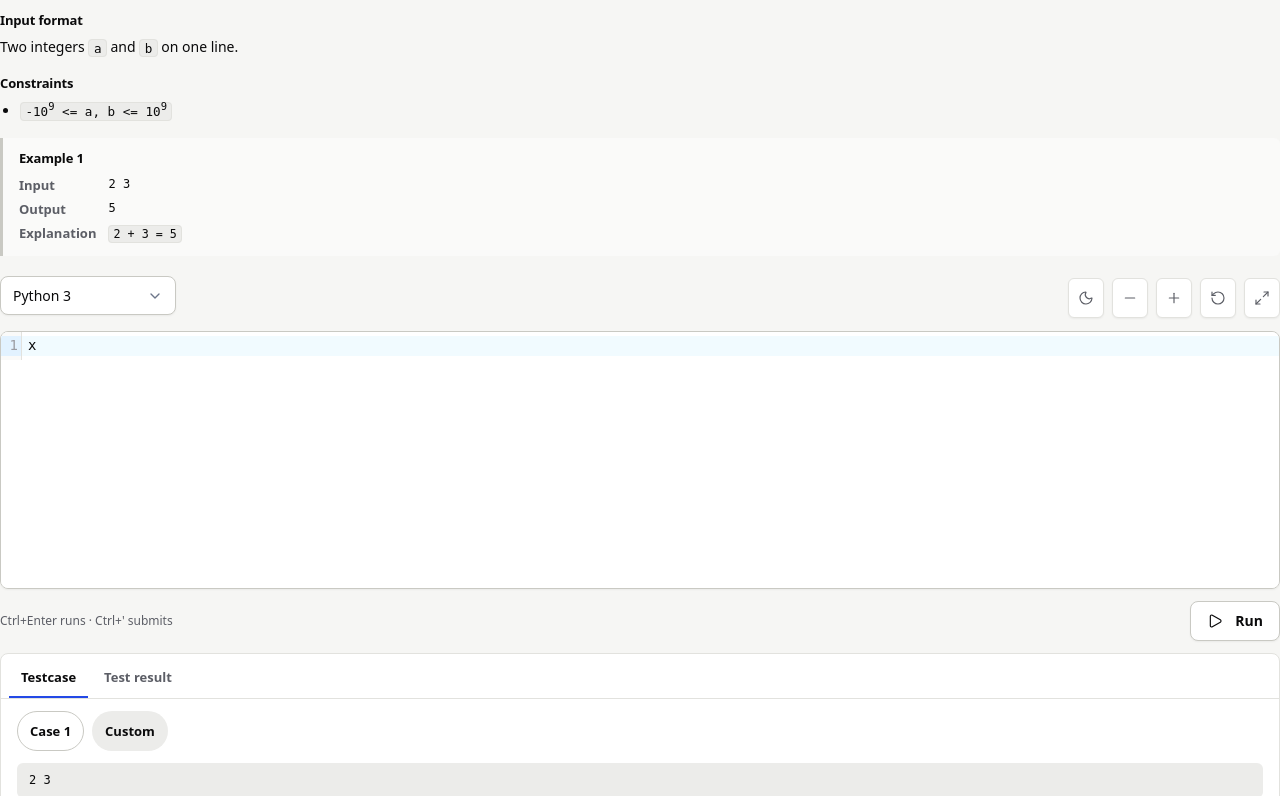
Test: the coding workspace › runs a custom case on the candidate's own input
Click the button "Custom" at (130, 732), box top-left (92, 712), bottom-right (168, 752)
(page scrolled)
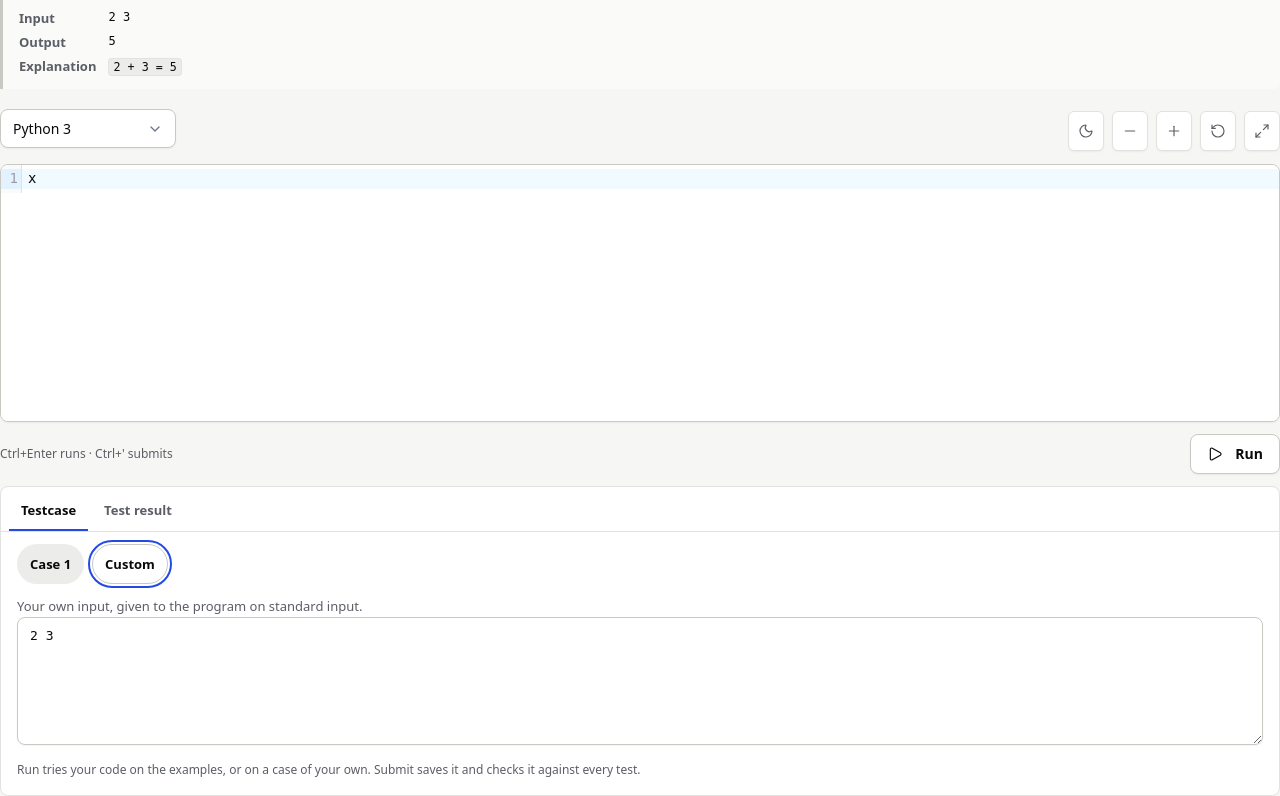
Replace the text in the text box labelled "Your own input, given to the program on standard input." with "40 2" at (640, 681), box top-left (17, 617), bottom-right (1263, 745)
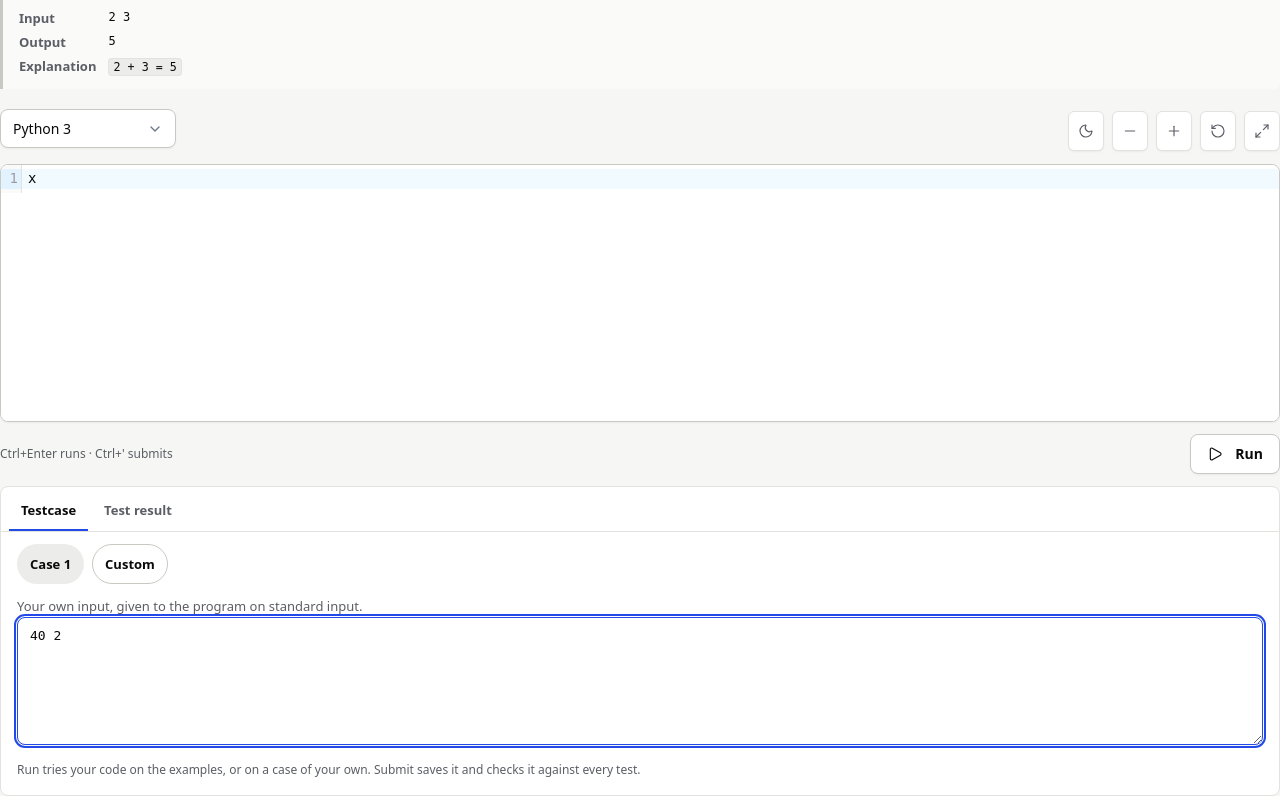
Click the button "Run" at (1235, 454), box top-left (1190, 434), bottom-right (1279, 474)
(page scrolled)
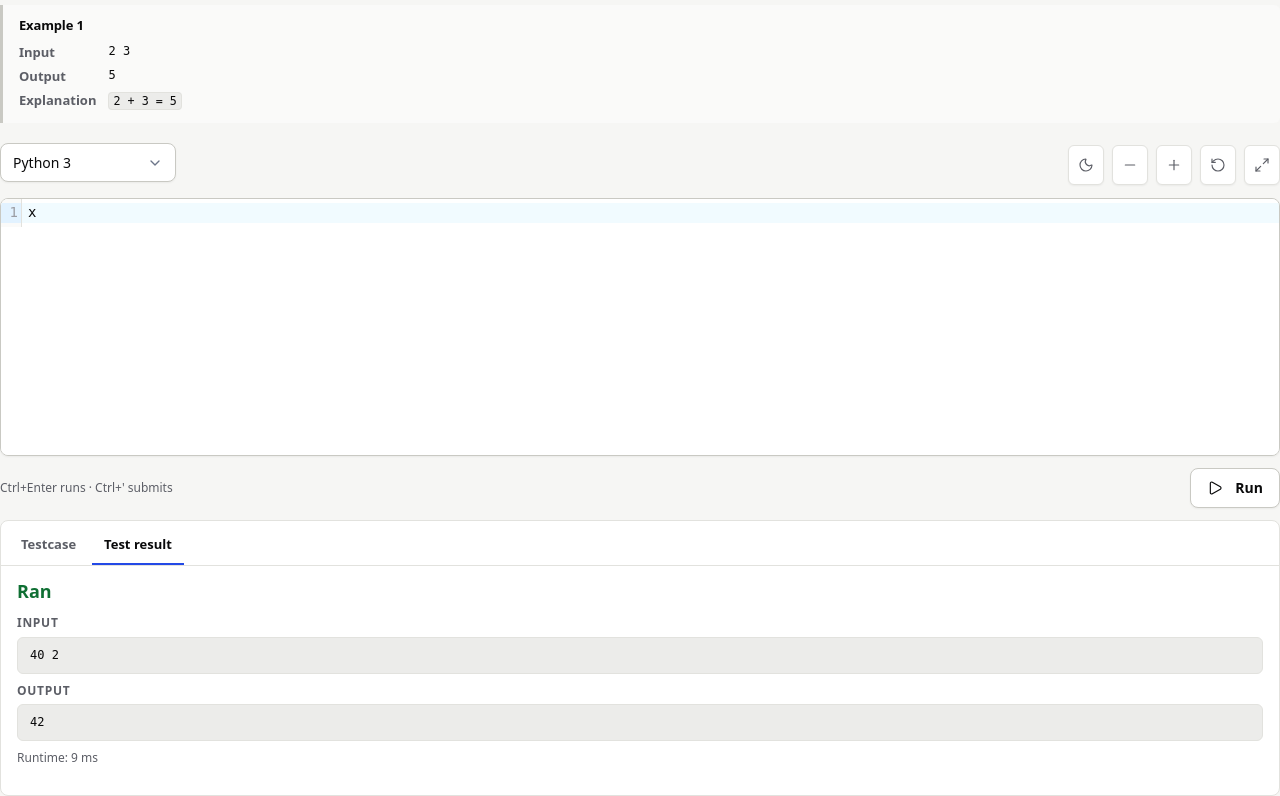
Expected: the element named "Run results" shows "42", top-left (30, 715), bottom-right (44, 729)
